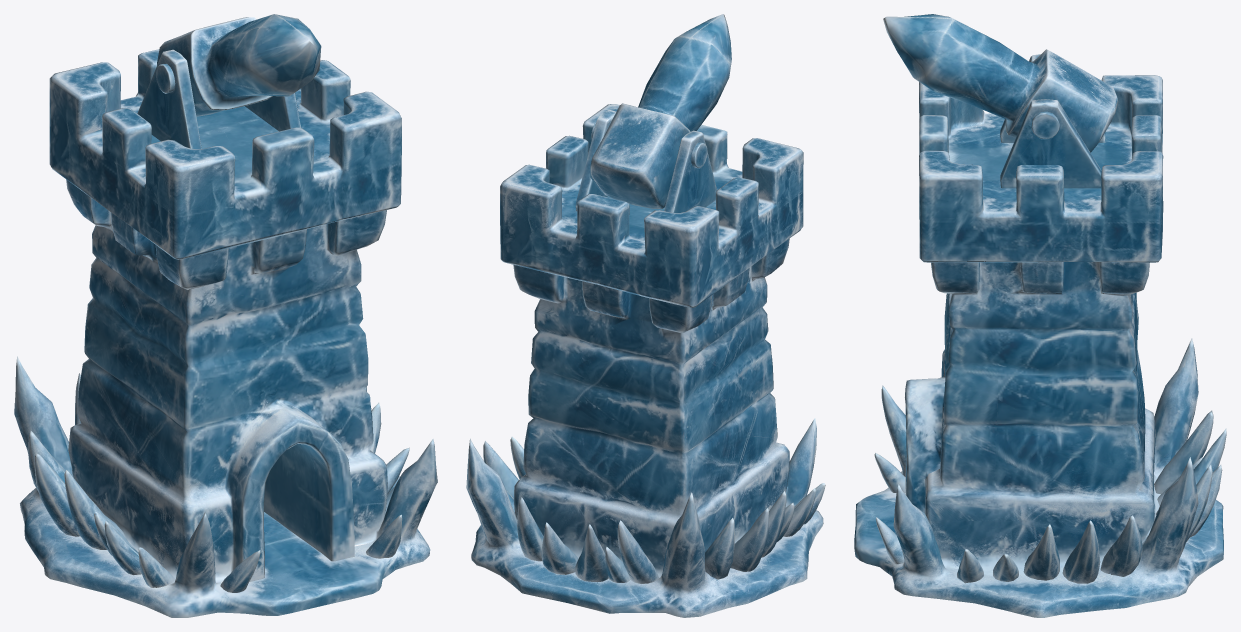
File: glacial_fortress.glb
3 renders of one model, left to right at view 1: azimuth 30°, elevation 25°; view 2: azimuth 150°, elevation 25°; view 3: azimuth 270°, elevation 25°, orthographic. The views are drawn at different scales.
Size of the model in its own units: 0.6801 by 1 by 0.6508.
Materials: 1 (1 with a texture image).
